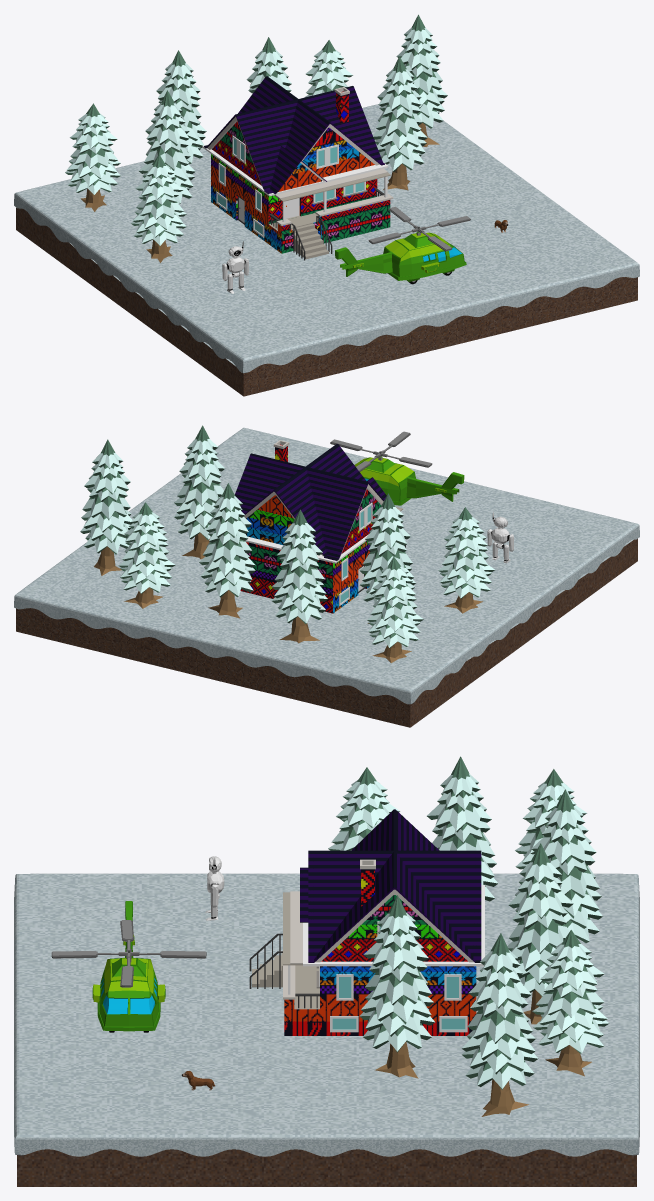
The picture shows the model from 3 angles, top to bottom: view 1: azimuth 30°, elevation 25°; view 2: azimuth 150°, elevation 25°; view 3: azimuth 270°, elevation 25°; orthographic projection. The views are drawn at different scales.
Visible parts, largest first — view 1: Cube.003, Cube.966, VEHICLES_HELICOPTER, OBJRANDOM_PLATZEEBOT; view 2: Cube.003, Cube.966, VEHICLES_HELICOPTER, OBJRANDOM_PLATZEEBOT; view 3: Cube.003, Cube.966, VEHICLES_HELICOPTER, OBJRANDOM_PLATZEEBOT.
Part boxes in pixels (x1,y1,x2,y2): Cube.003: (14,14,639,396); Cube.966: (202,76,393,260); VEHICLES_HELICOPTER: (335,206,470,284); OBJRANDOM_PLATZEEBOT: (222,241,248,293); Cube.003: (14,425,639,727); Cube.966: (235,440,405,613); VEHICLES_HELICOPTER: (330,431,464,505); OBJRANDOM_PLATZEEBOT: (487,512,513,563); Cube.003: (14,756,639,1186); Cube.966: (249,809,484,1035); VEHICLES_HELICOPTER: (51,901,206,1032); OBJRANDOM_PLATZEEBOT: (205,856,224,920).
Size of the model in its own units: 4040 by 1793 by 4040.
Materials: 35 (7 with a texture image).
